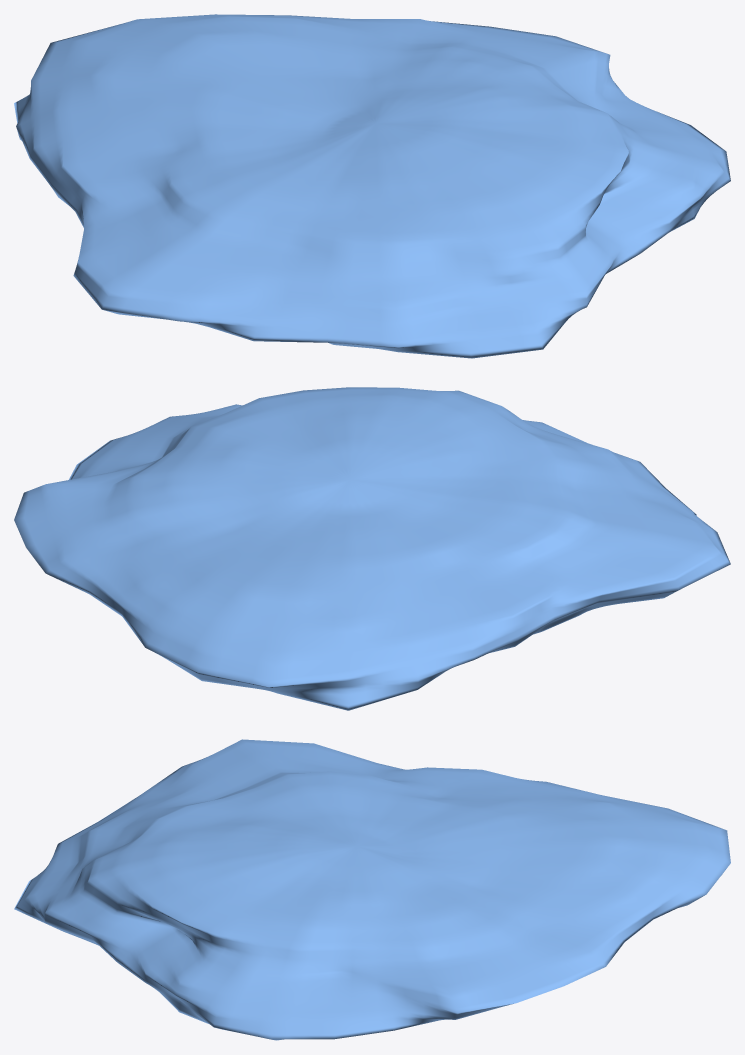
Rendered from uploads_files_2874428_Ice 1.fbx.
3 views of the same model, one above another, from view 1: azimuth 30°, elevation 25°; view 2: azimuth 150°, elevation 25°; view 3: azimuth 270°, elevation 25° (orthographic). The views are drawn at different scales.
Parts seen in each view (by area): view 1: Sphere.002; view 2: Sphere.002; view 3: Sphere.002.
Part boxes in pixels (left/top/right/bottom): Sphere.002: left=14, top=14, right=730, bottom=358; Sphere.002: left=14, top=387, right=730, bottom=710; Sphere.002: left=14, top=739, right=730, bottom=1040.
Bounding box in the file's own units: 808 × 144 × 866.
